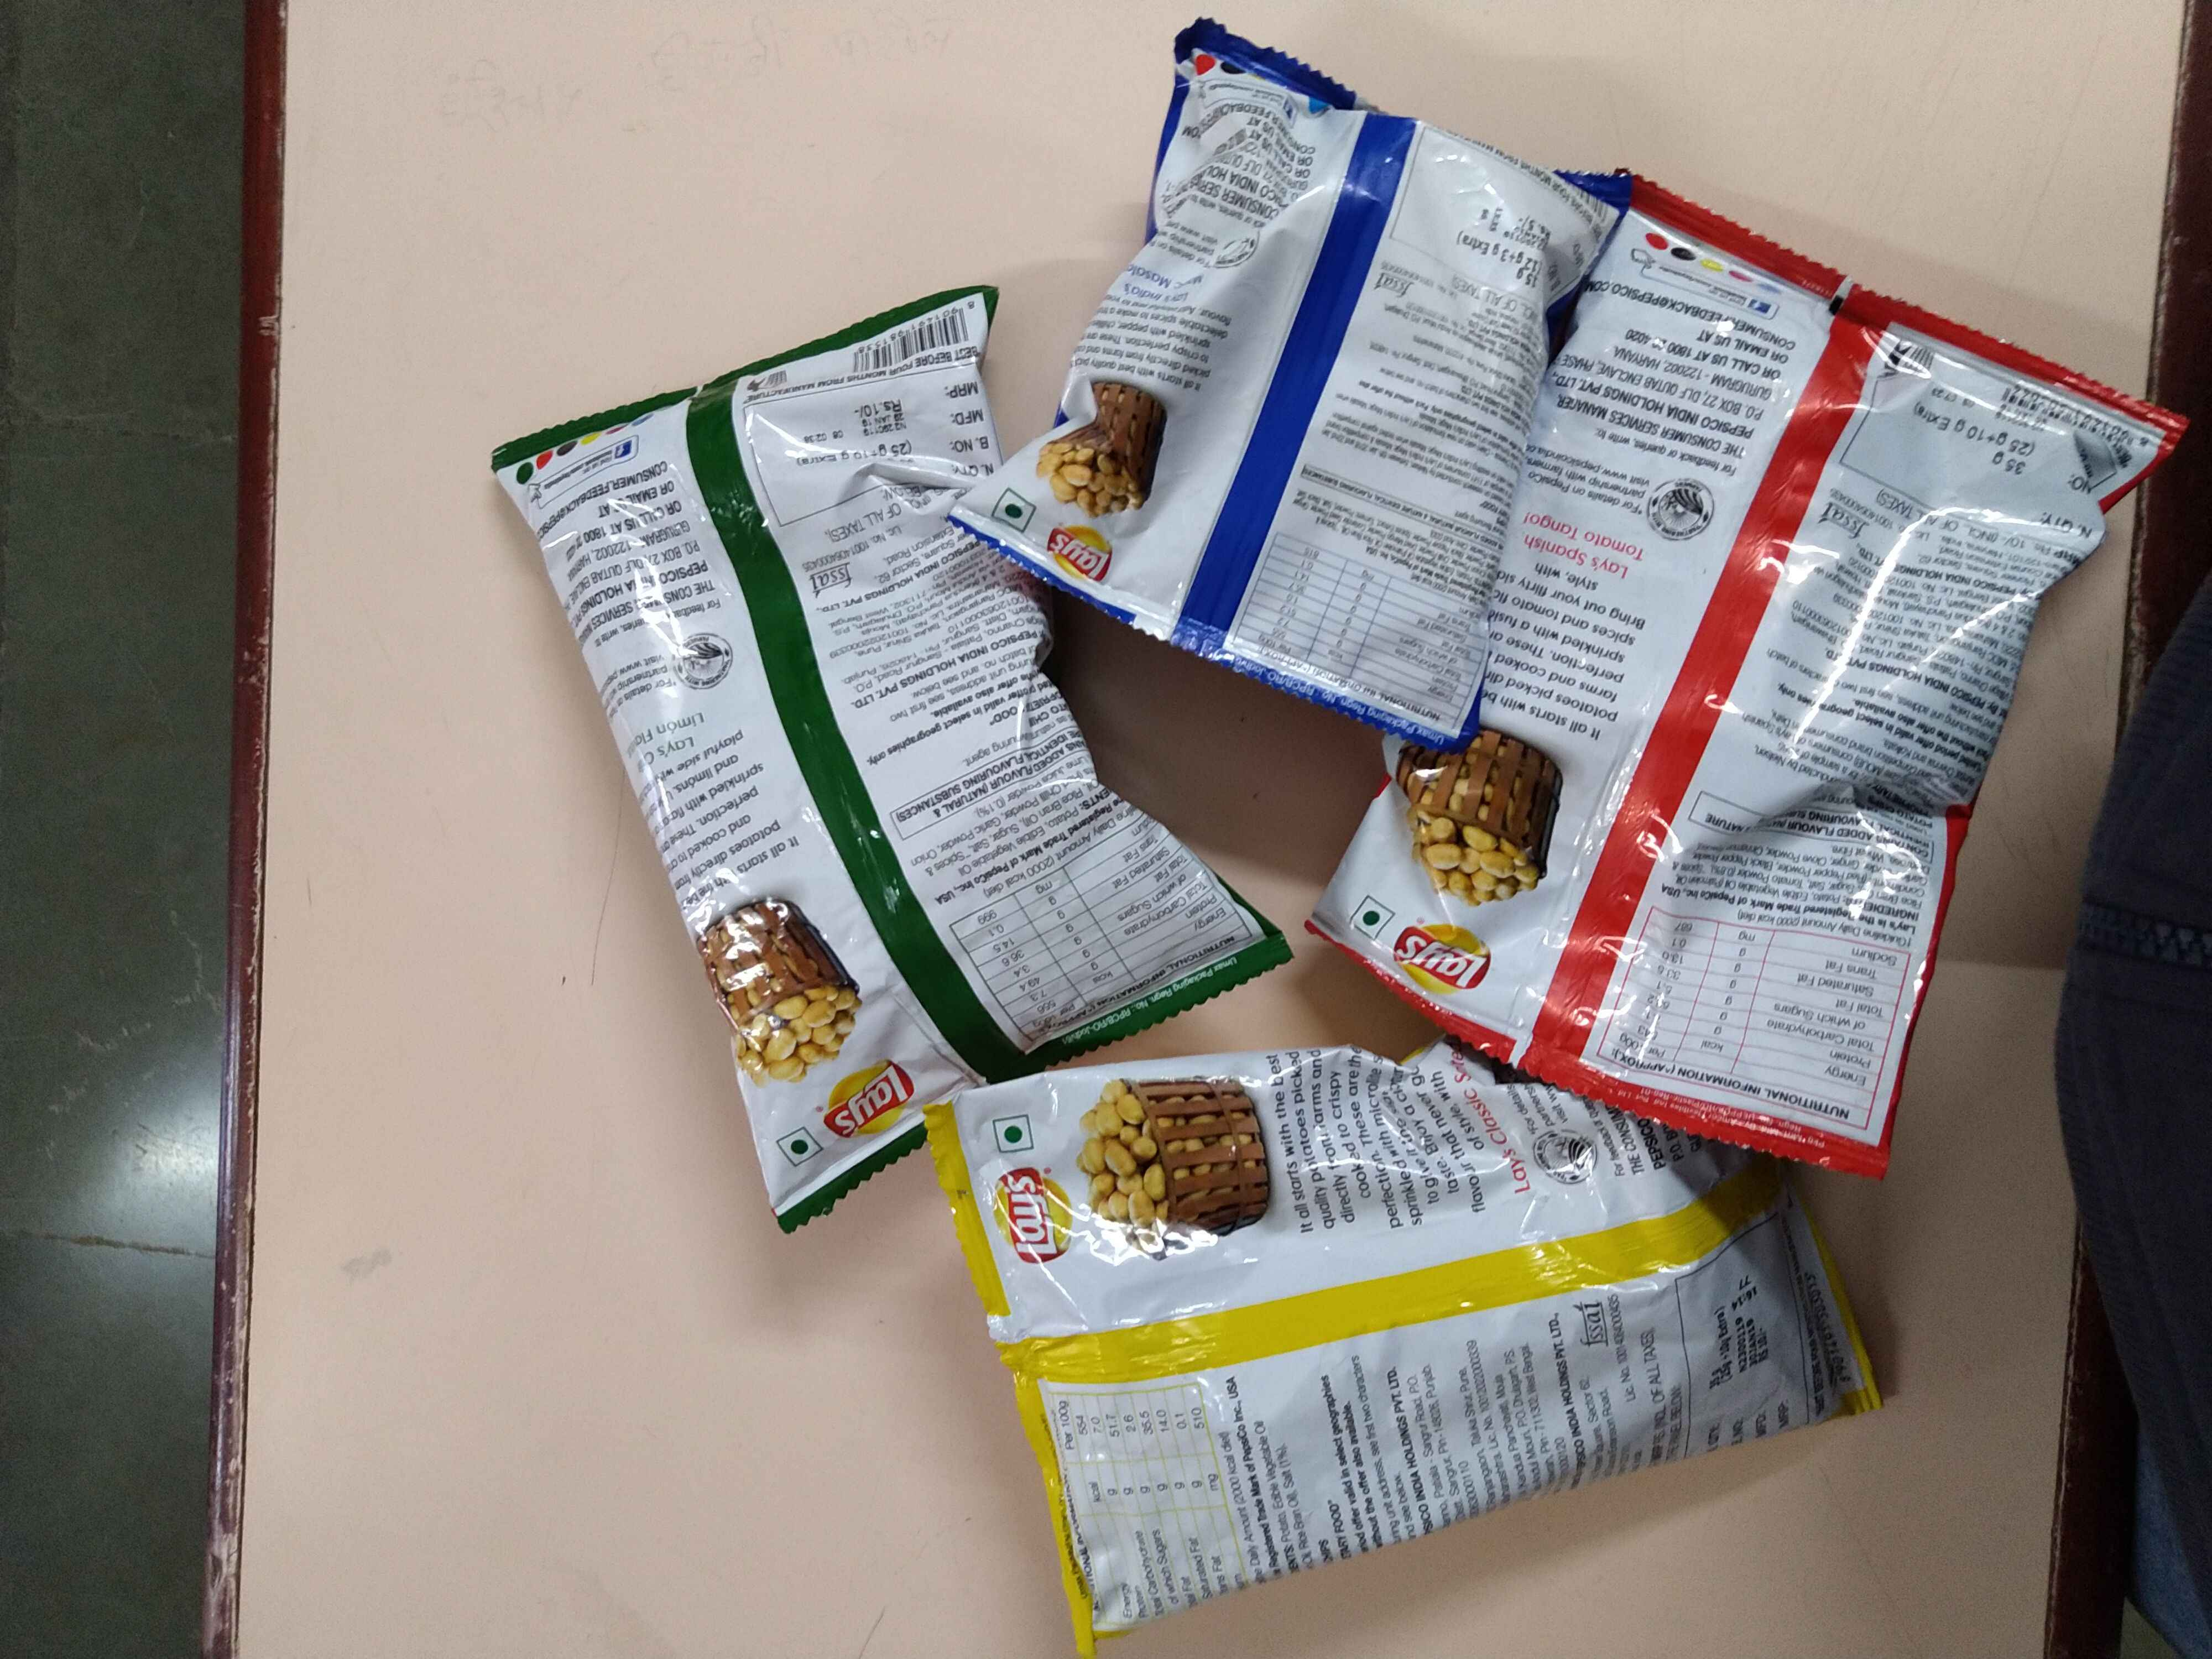Lays: (819, 1047, 942, 1162), (1385, 906, 1496, 1014), (984, 1155, 1076, 1276), (1035, 519, 1122, 594)
